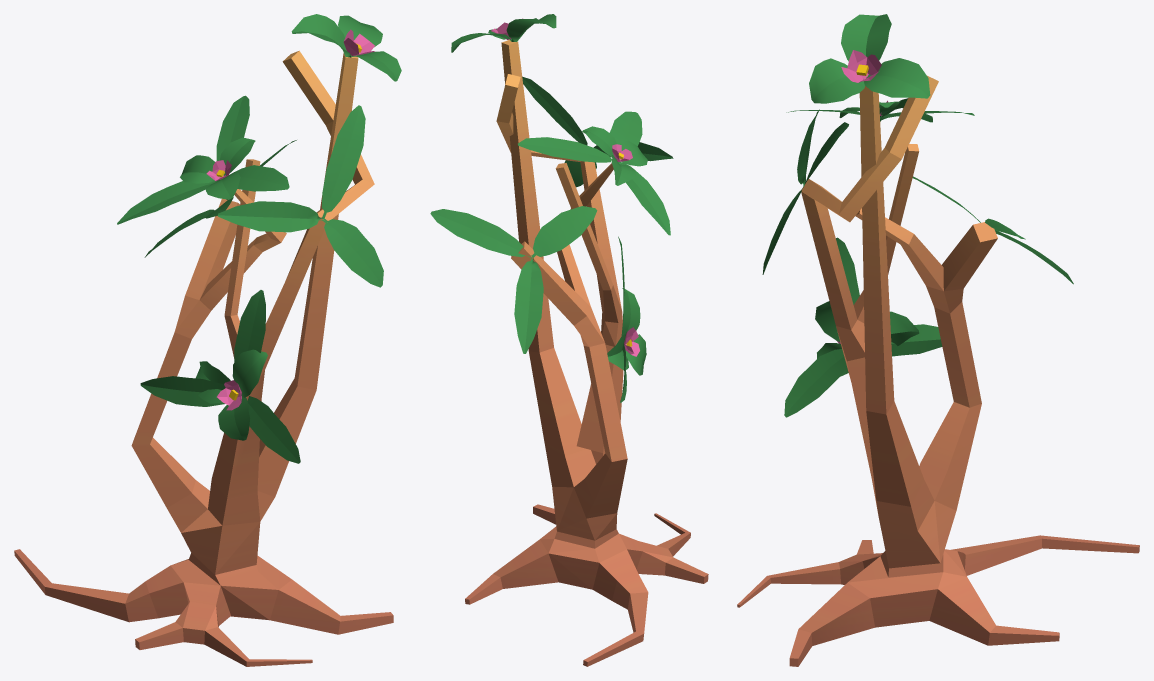
The model's file is Sapling_2.fbx.
The picture shows the model from 3 angles, left to right: view 1: azimuth 30°, elevation 25°; view 2: azimuth 150°, elevation 25°; view 3: azimuth 270°, elevation 25°; orthographic projection. The views are drawn at different scales.
Parts seen in each view (by area): view 1: Sapling_2; view 2: Sapling_2; view 3: Sapling_2.
Boxes of the visible parts, x1,y1,x2,y2 form: Sapling_2: (14,14,401,666); Sapling_2: (430,14,708,666); Sapling_2: (737,14,1139,666).
Bounding box in the file's own units: 0.8669 × 1.81 × 1.04.
